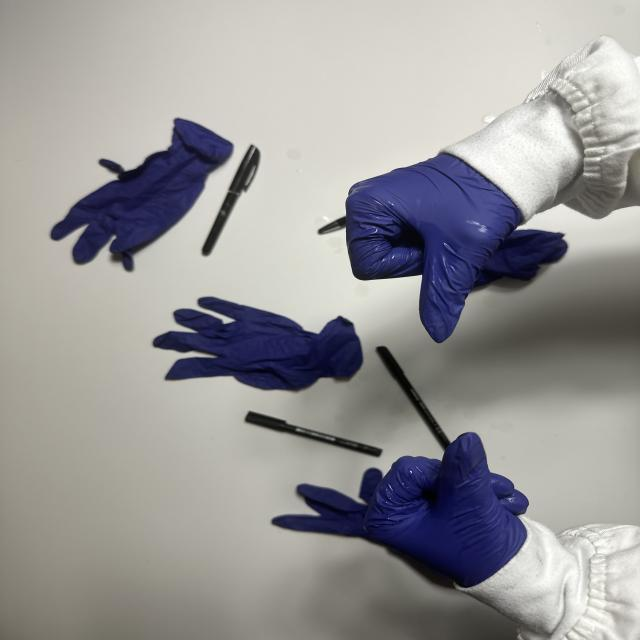gloves_contaminated: (346, 154, 521, 342), (364, 432, 528, 588)
